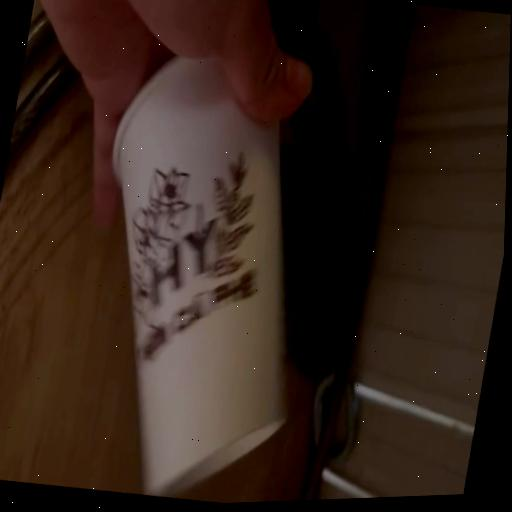Ly_giay: (114, 59, 283, 497)
